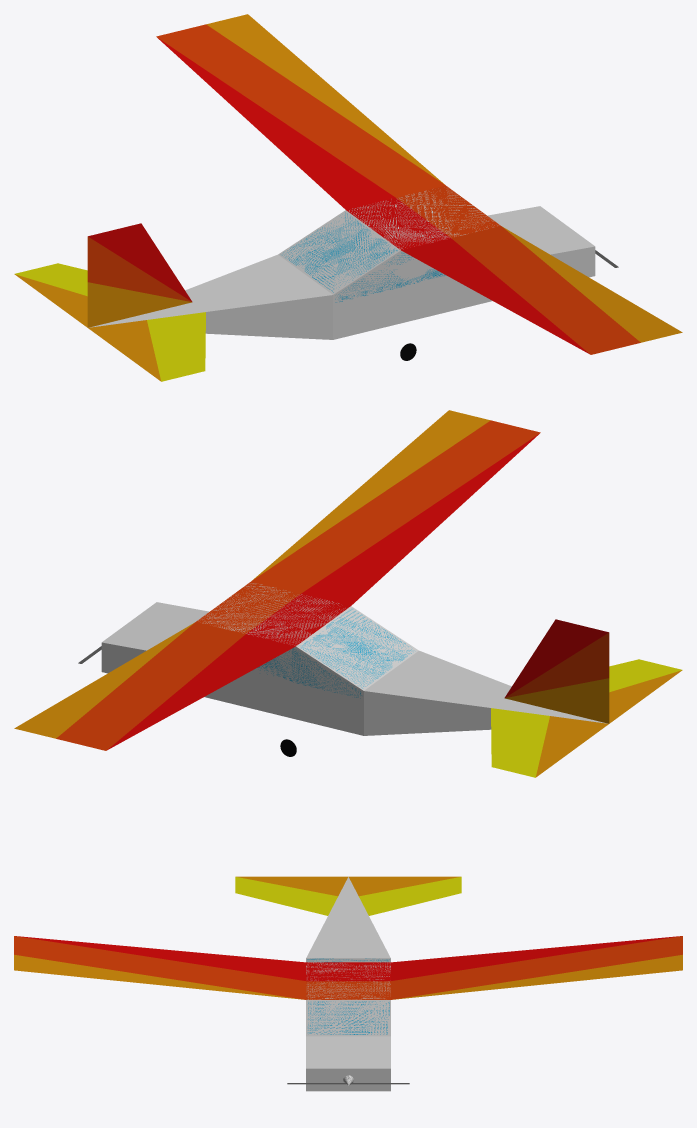
3 views of the same model, one above another, from view 1: azimuth 30°, elevation 25°; view 2: azimuth 150°, elevation 25°; view 3: azimuth 270°, elevation 25° (orthographic). The views are drawn at different scales.
Parts seen in each view (by area): view 1: mesh1.001_mesh1-geometry, mesh2.001_mesh2-geometry; view 2: mesh1.001_mesh1-geometry, mesh2.001_mesh2-geometry; view 3: mesh1.001_mesh1-geometry.
Part boxes in pixels (x1,y1,x2,y2): mesh1.001_mesh1-geometry: [14, 14, 682, 381]; mesh2.001_mesh2-geometry: [87, 223, 192, 327]; mesh1.001_mesh1-geometry: [14, 410, 682, 777]; mesh2.001_mesh2-geometry: [504, 619, 609, 723]; mesh1.001_mesh1-geometry: [14, 876, 682, 1091].
Size of the model in its own units: 0.5406 by 0.1798 by 0.8218.
